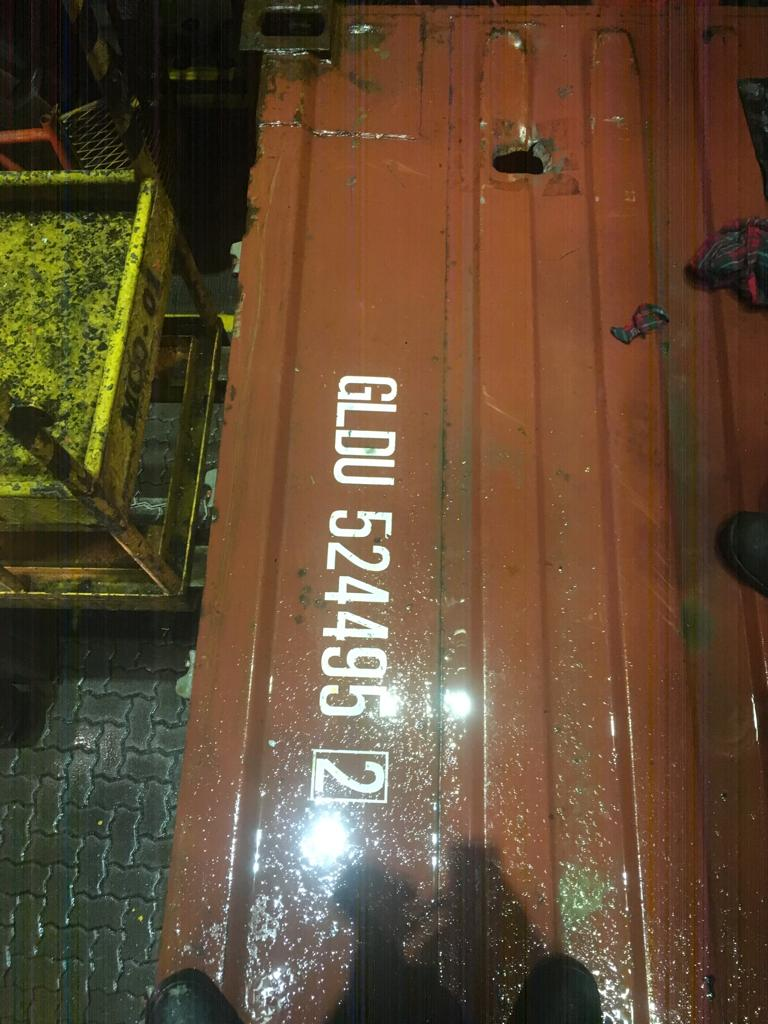hole: (494, 127, 558, 184)
